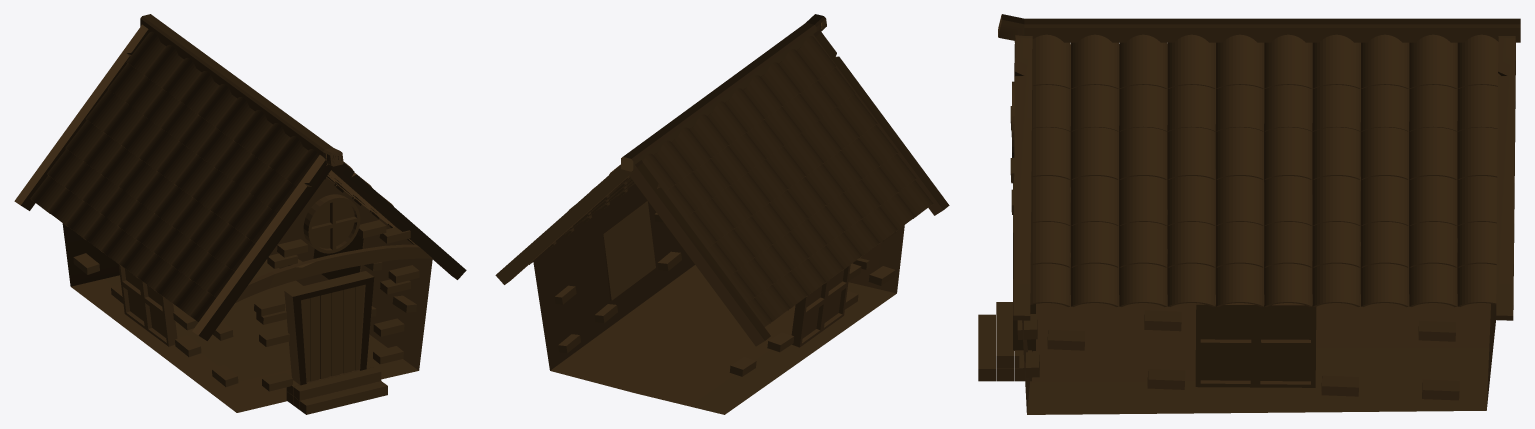
3 renders of one model, left to right at view 1: azimuth 30°, elevation 25°; view 2: azimuth 150°, elevation 25°; view 3: azimuth 270°, elevation 25°, orthographic. The views are drawn at different scales.
Parts seen in each view (by area): view 1: House_1; view 2: House_1; view 3: House_1.
Boxes of the visible parts, left/top/right/bottom form: House_1: left=14, top=14, right=466, bottom=414; House_1: left=495, top=14, right=949, bottom=414; House_1: left=978, top=14, right=1520, bottom=414.
Size of the model in its own units: 405 by 358 by 521.
